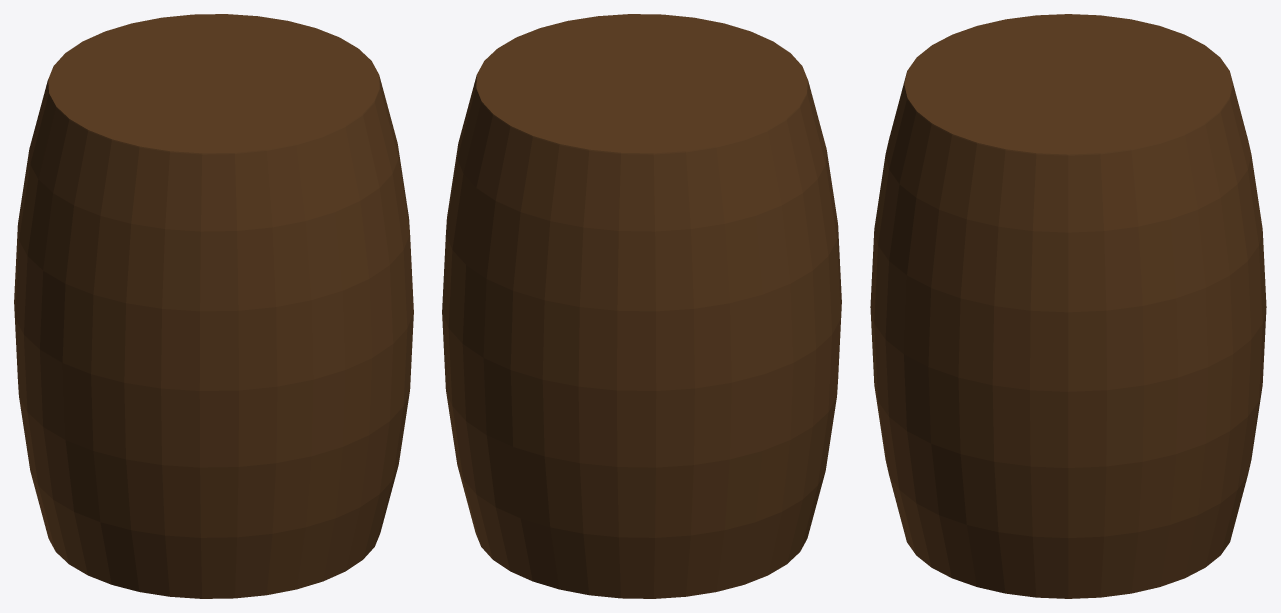
The model's file is Tonneau.gltf.
3 renders of one model, left to right at view 1: azimuth 30°, elevation 25°; view 2: azimuth 150°, elevation 25°; view 3: azimuth 270°, elevation 25°, orthographic.
Parts seen in each view (by area): view 1: Sphère; view 2: Sphère; view 3: Sphère.
Part boxes in pixels (box(x1,y1,x2,y2)): Sphère: box(14, 14, 413, 598); Sphère: box(442, 14, 841, 598); Sphère: box(870, 14, 1266, 598).
Bounding box in the file's own units: 7.55 × 9.23 × 7.46.
